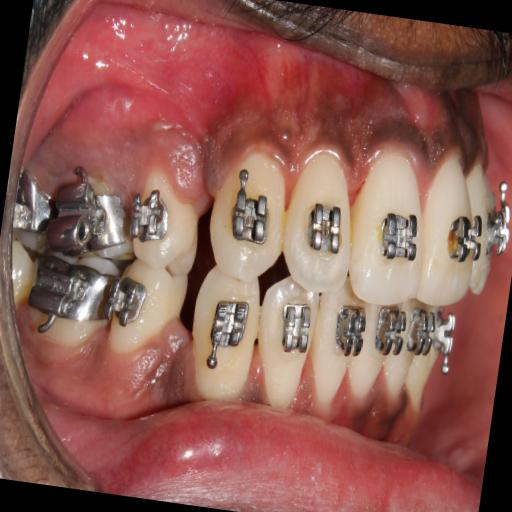correct_brace: (122, 164, 208, 275), (104, 260, 188, 360), (223, 166, 278, 252), (202, 291, 254, 380), (372, 197, 424, 274), (300, 195, 348, 265), (275, 296, 316, 364), (110, 276, 150, 330)
incorrect_brace: (280, 150, 362, 294), (250, 280, 321, 411), (128, 186, 174, 252)
